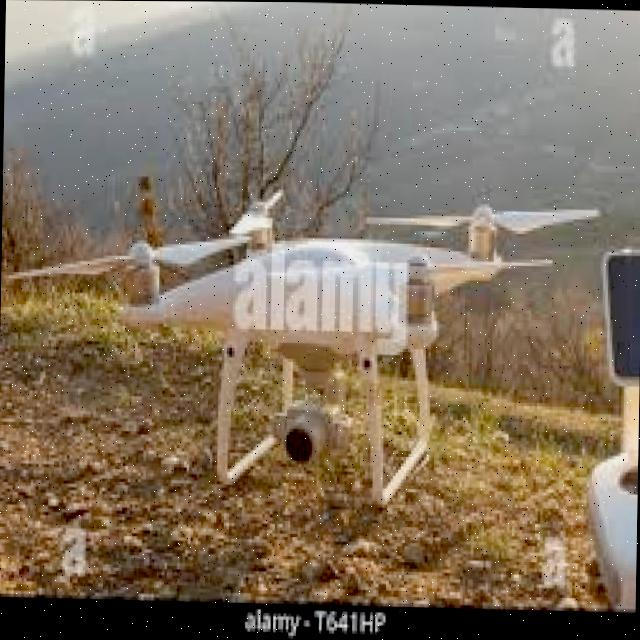drone: (14, 158, 606, 509)
